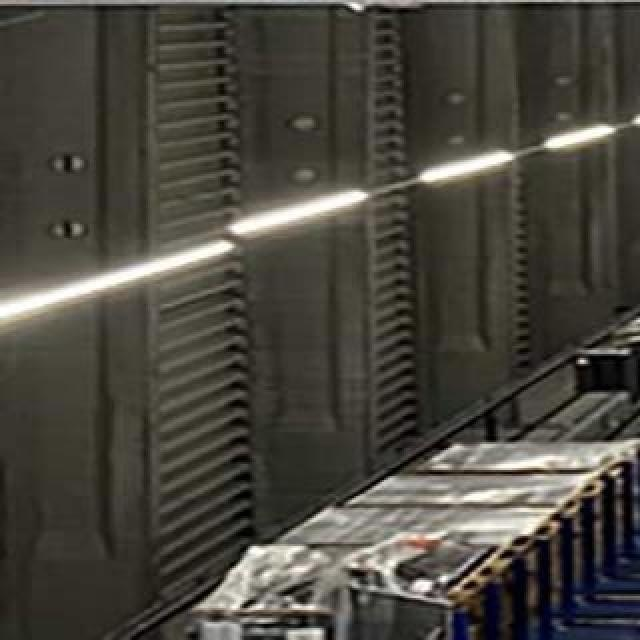fluorescent tube: (4, 237, 236, 335), (211, 178, 369, 242), (398, 144, 520, 187), (538, 119, 622, 157), (626, 100, 640, 134)
